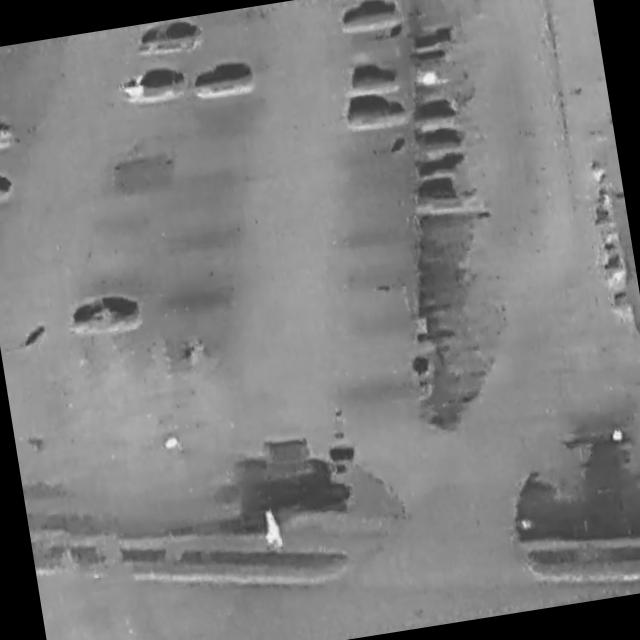person: (261, 509, 288, 552)
